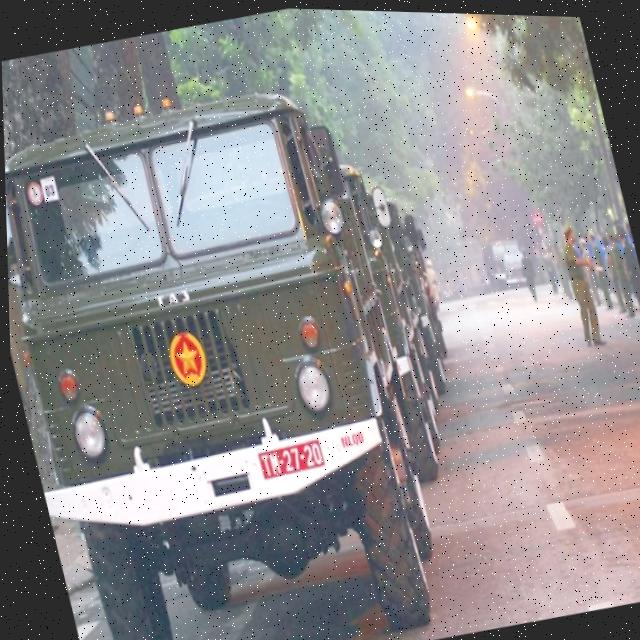car: (2, 65, 465, 640)
plate: (247, 432, 329, 486)
